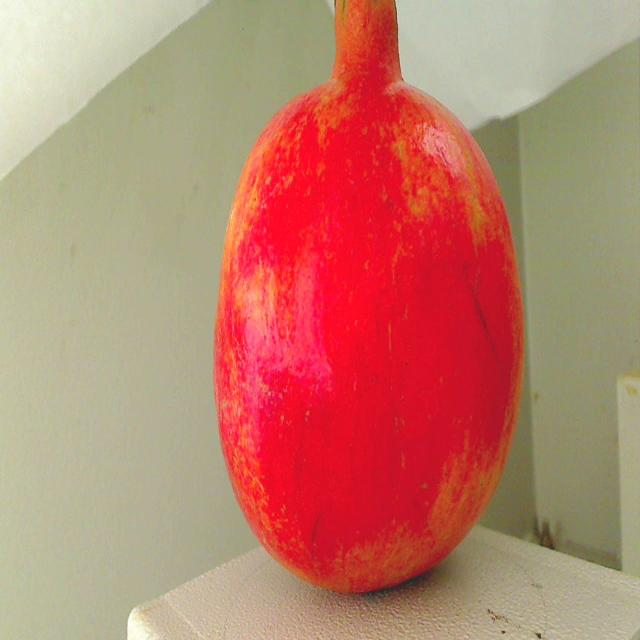pomegranate: (205, 0, 537, 598)
